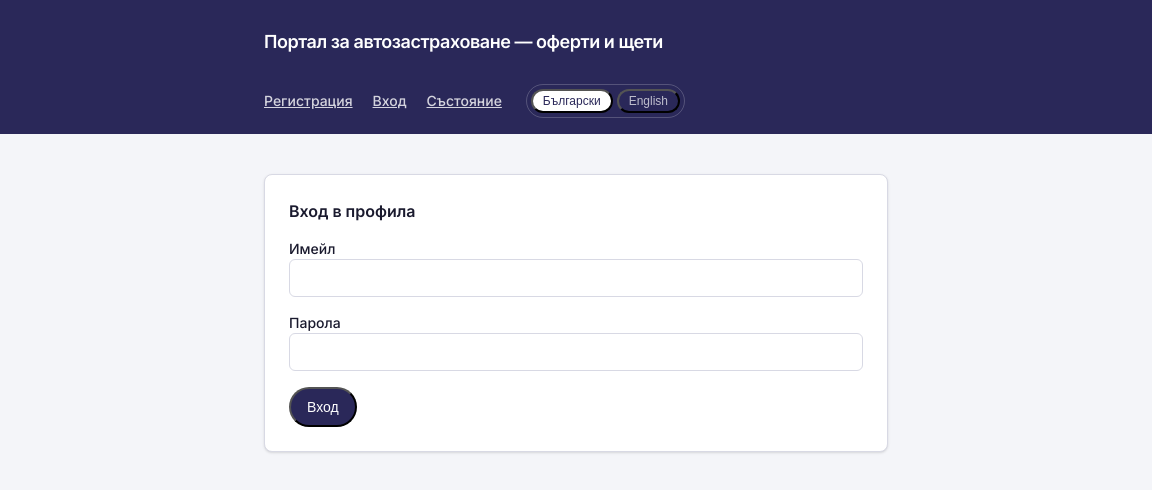
Scenario: LoginForm role-based post-login routing › renders field-level errors from a bean-validation failure next to each offending input
Type "someone@example.com" into the field labelled "Имейл". click: (576,278)
box: [289,259,863,297]
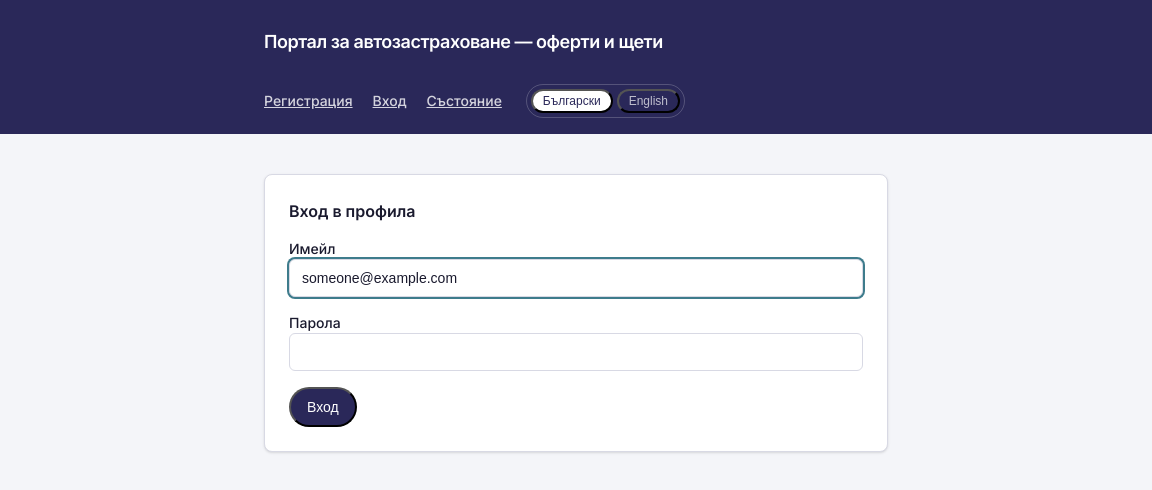
Type "DemoPass123!" into the password field labelled "Парола". click: (576,352)
box: [289,333,863,371]
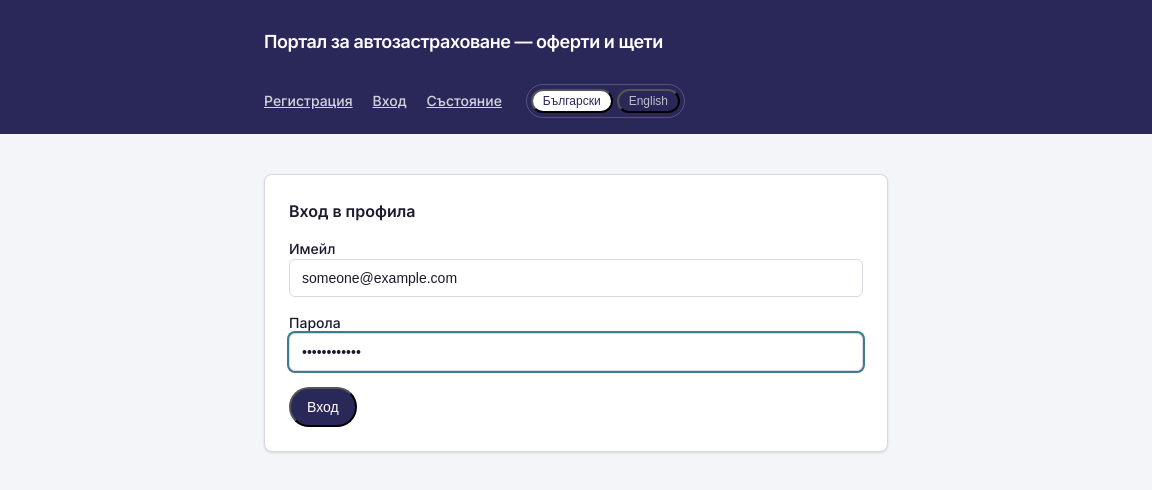
Click the button "Вход". click: (323,407)
box: [289,387,357,427]
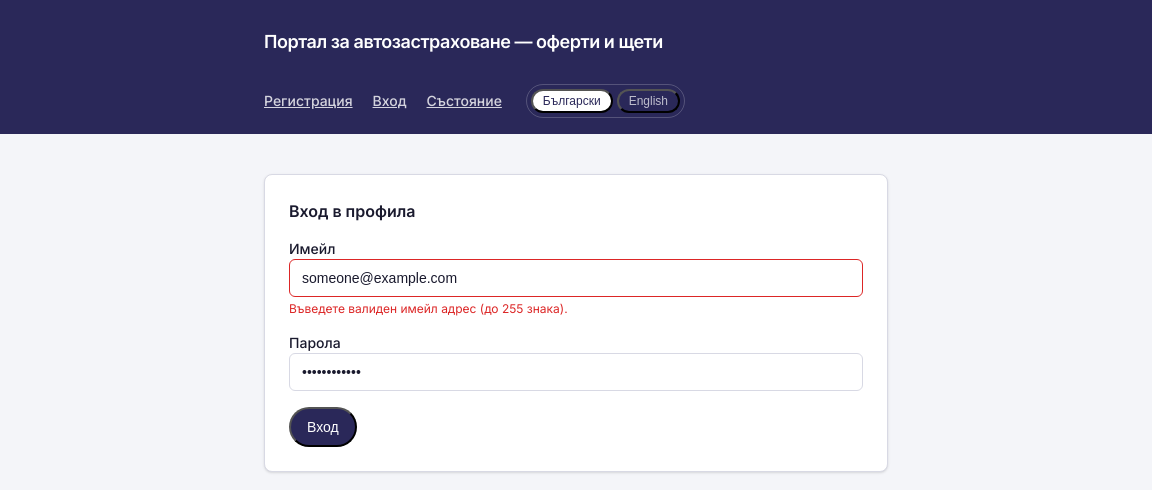
Expected: the button "Вход" is enabled, [289,407,357,447]
Now the text "Въведете валиден имейл адрес (до 255 знака)." is shown, box [289,301,568,316]
